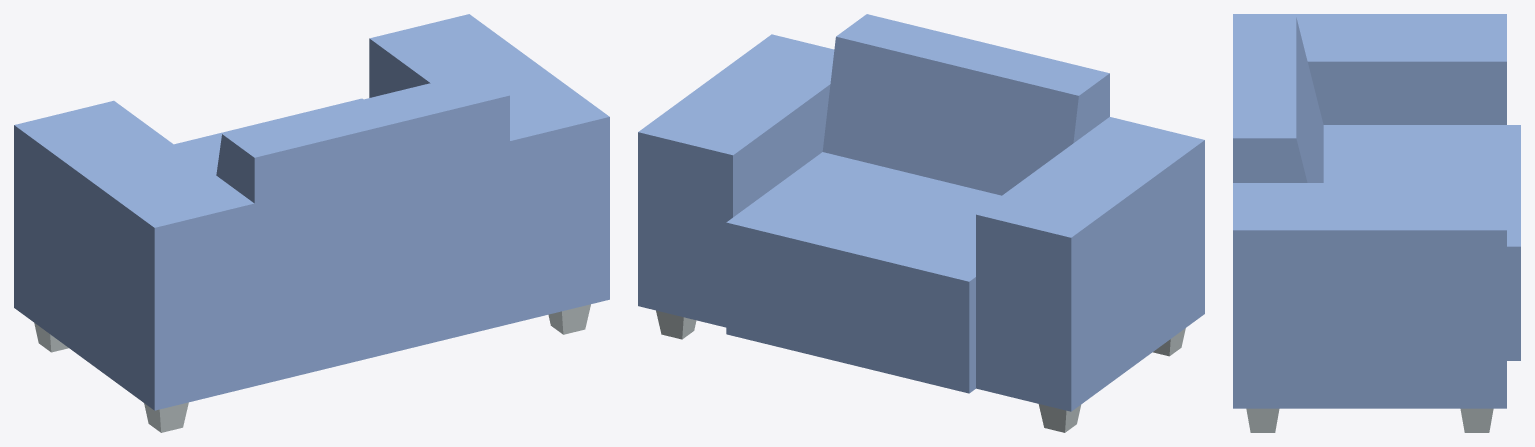
File: lounge-design-chair.glb
3 renders of one model, left to right at view 1: azimuth 30°, elevation 25°; view 2: azimuth 150°, elevation 25°; view 3: azimuth 270°, elevation 25°, orthographic. The views are drawn at different scales.
Visible parts, largest first — view 1: Mesh0, Mesh1; view 2: Mesh0, Mesh1; view 3: Mesh0, Mesh1.
Part boxes in pixels (x1,y1,x2,y2): Mesh0: (14, 14, 609, 410); Mesh1: (34, 304, 590, 432); Mesh0: (638, 14, 1204, 411); Mesh1: (656, 310, 1185, 432); Mesh0: (1233, 14, 1520, 408); Mesh1: (1246, 408, 1493, 432).
Bounding box in the file's own units: 0.7296 × 0.4 × 0.41.
